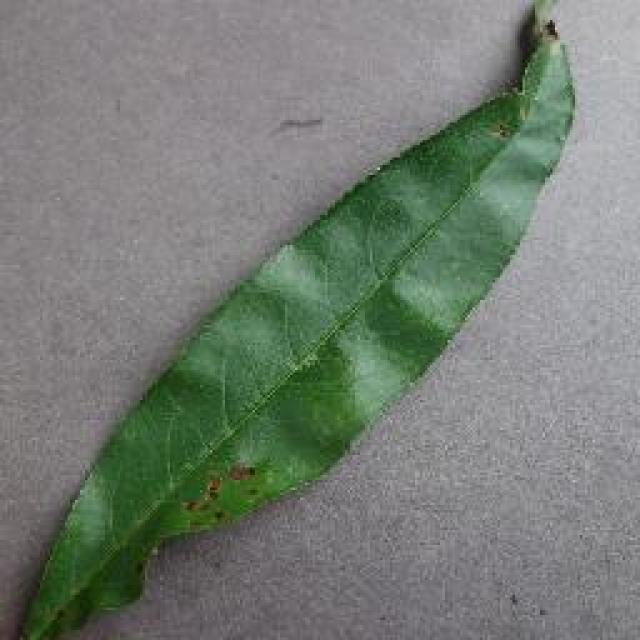Peach_Bacterial_Spot: (488, 22, 584, 92)
